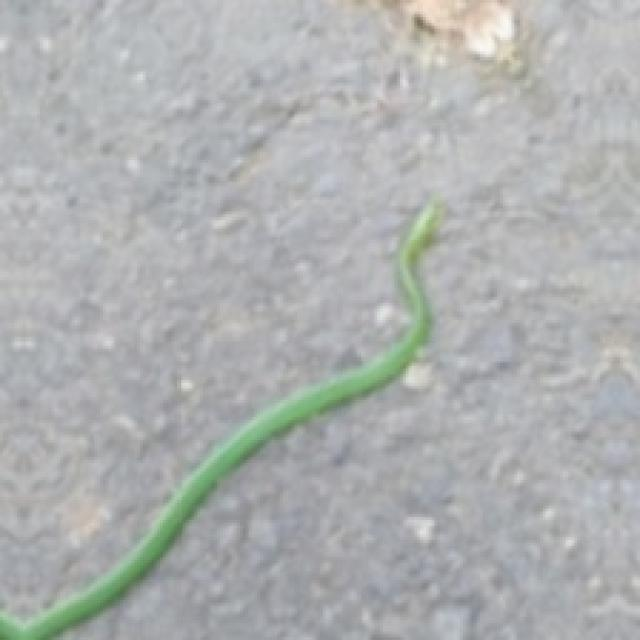red-tailed green ratsnake: (0, 197, 443, 637)
